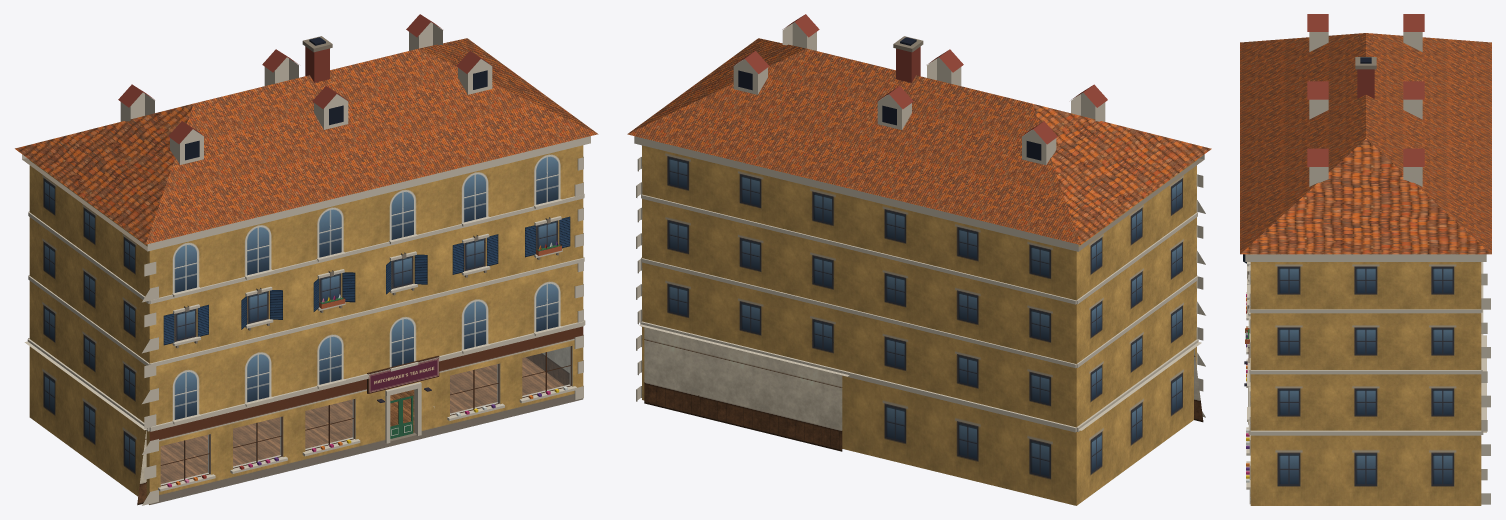
File: existing-shell.glb
3 views of the same model, side by side, from view 1: azimuth 30°, elevation 25°; view 2: azimuth 150°, elevation 25°; view 3: azimuth 270°, elevation 25° (orthographic). The views are drawn at different scales.
Parts seen in each view (by area): view 1: B_Facade_ochre_0, RoofTileV4_4, Props_3, WoodFloor_7, Glass_1, Shutters_5, InteriorWalls_2, Signs_6; view 2: B_Facade_ochre_0, RoofTileV4_4, Props_3, InteriorWalls_2; view 3: B_Facade_ochre_0, RoofTileV4_4, Props_3.
Part boxes in pixels (bbox=[...]): B_Facade_ochre_0: bbox=[29, 145, 583, 504]; RoofTileV4_4: bbox=[15, 38, 598, 244]; Props_3: bbox=[22, 14, 590, 505]; WoodFloor_7: bbox=[160, 357, 563, 483]; Glass_1: bbox=[161, 347, 570, 484]; Shutters_5: bbox=[163, 216, 570, 345]; InteriorWalls_2: bbox=[137, 346, 569, 505]; Signs_6: bbox=[369, 358, 438, 392]; B_Facade_ochre_0: bbox=[642, 145, 1196, 505]; RoofTileV4_4: bbox=[627, 38, 1211, 244]; Props_3: bbox=[634, 14, 1205, 432]; InteriorWalls_2: bbox=[644, 327, 1203, 451]; B_Facade_ochre_0: bbox=[1250, 262, 1481, 505]; RoofTileV4_4: bbox=[1240, 33, 1491, 254]; Props_3: bbox=[1244, 14, 1490, 504].
Size of the model in its own units: 26.1 by 20.1 by 13.1.
Materials: 8 (7 with a texture image).
